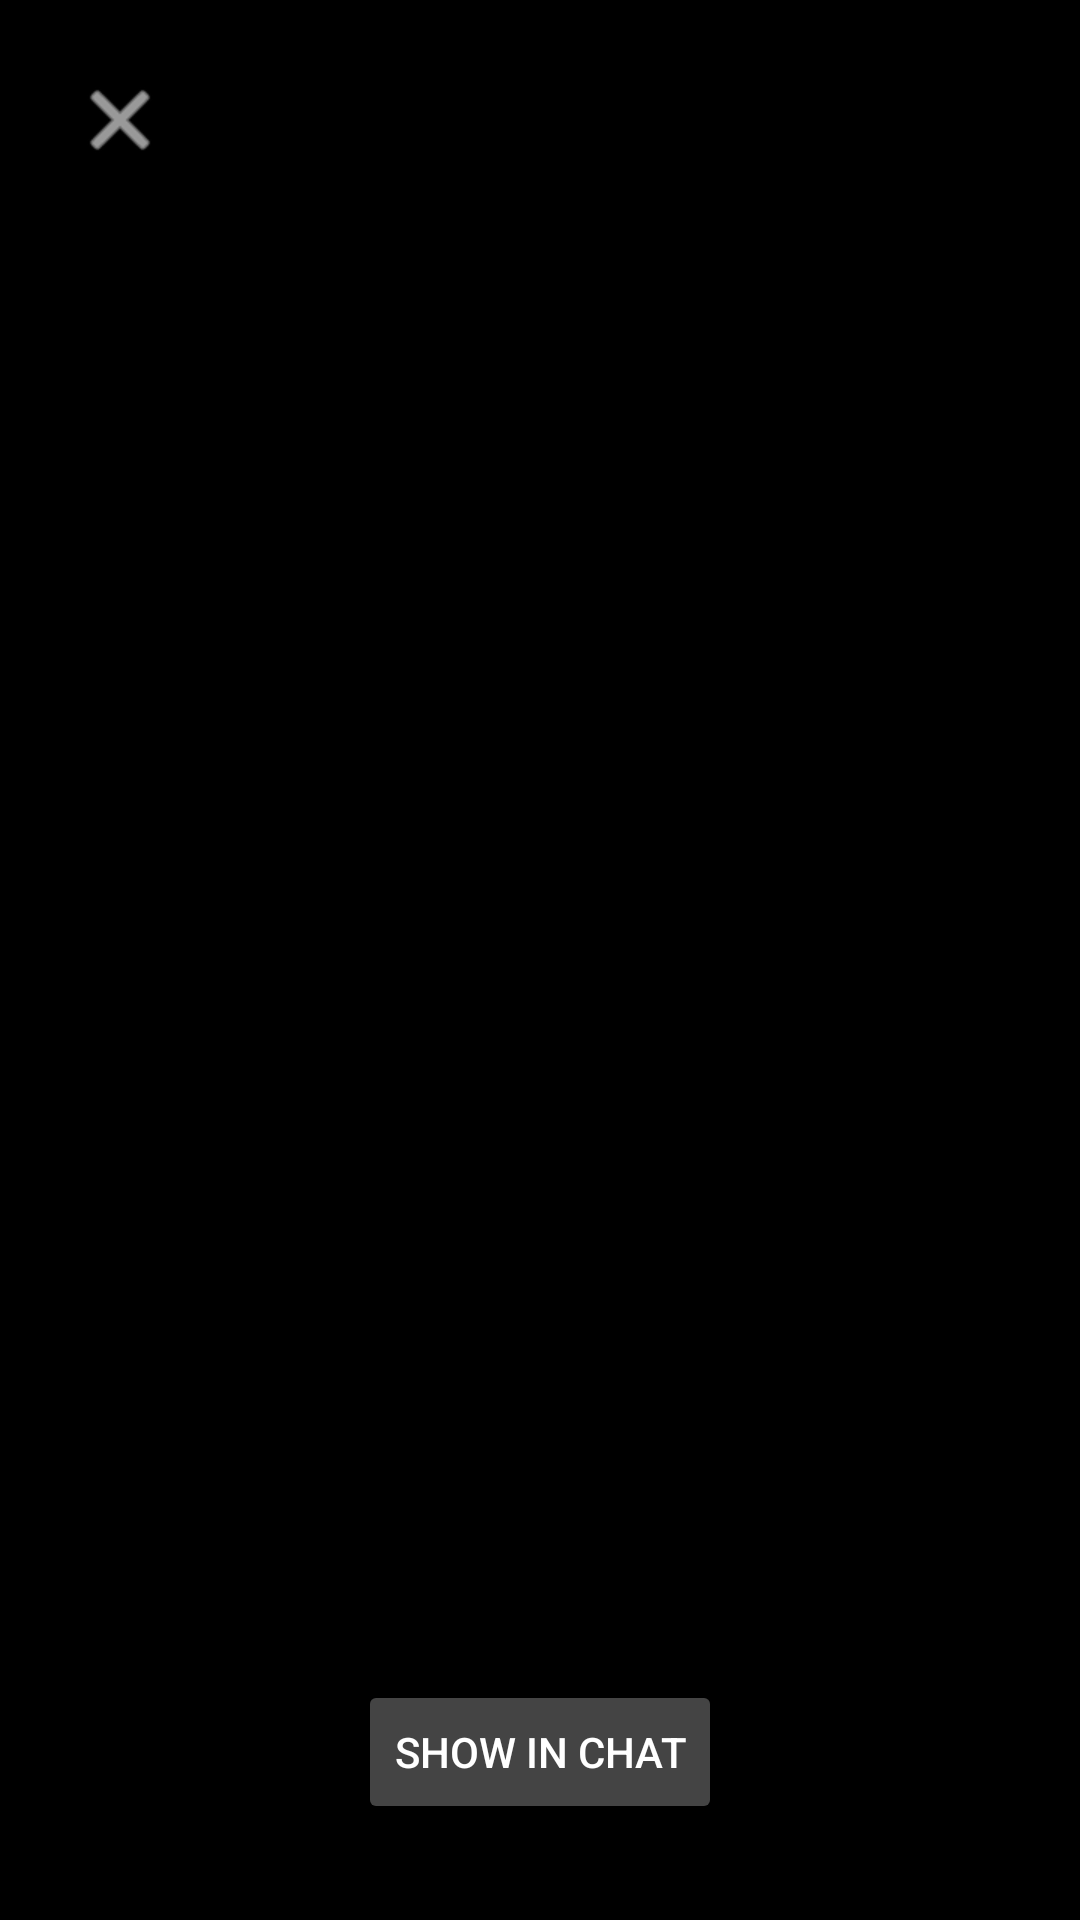

Screen size 1080px×1920px. Icon name, then its box in pixels as (left=x1, top=y1, right=x2, bottom=y2):
close clear cancel: (left=90, top=90, right=150, bottom=150)
